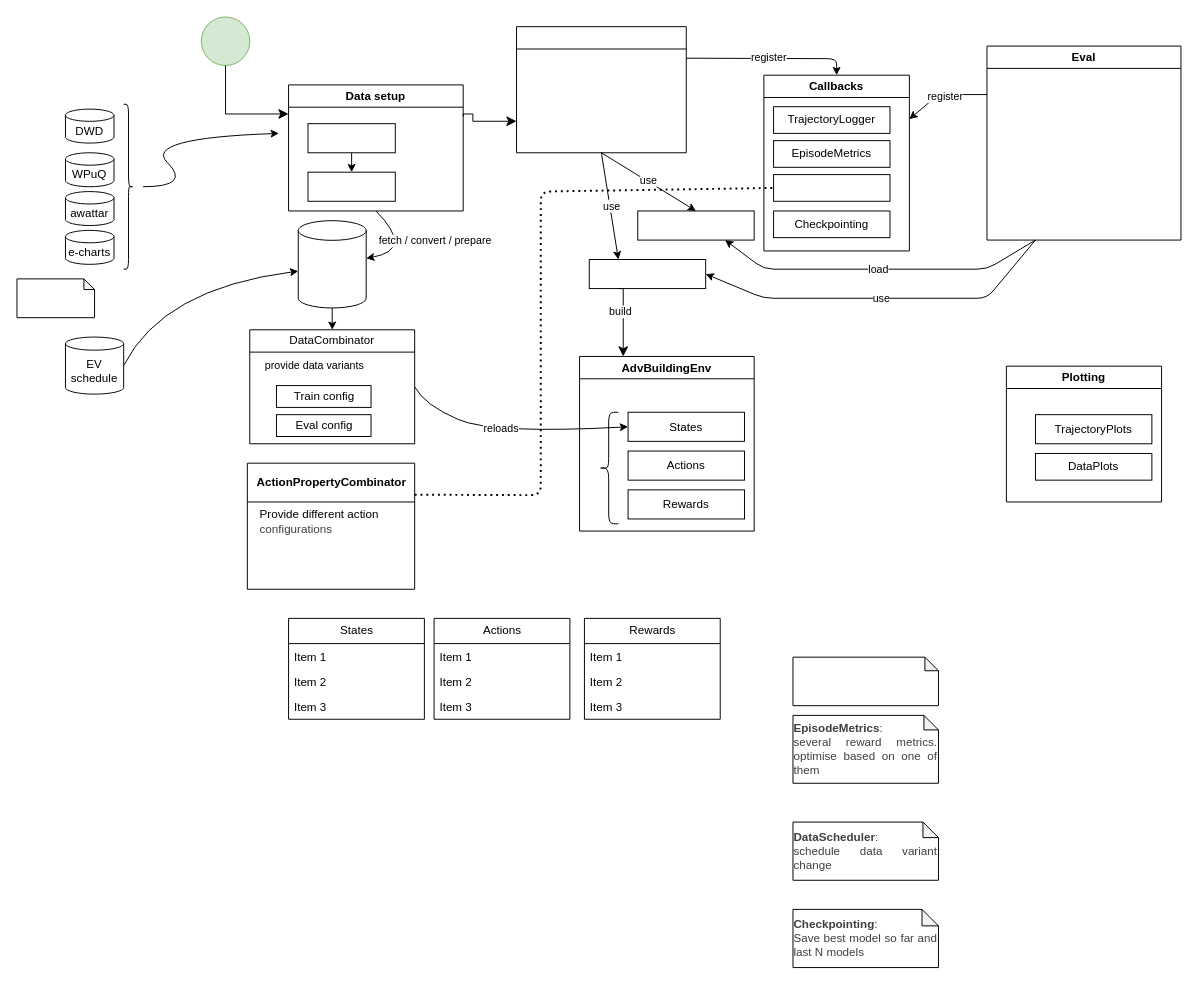
The diagram is 1198 pixels wide and 985 high, and some of its shapes have lost their labels. The centre of each missing label's shape, as x and y in pixels:
"Data sources" belongs at pixel 55 298.
"DataScheduler" belongs at pixel 831 187.
"Download" belongs at pixel 351 138.
"EnvConfig" belongs at pixel 647 274.
"Preprocess" belongs at pixel 351 186.
"Start" belongs at pixel 225 40.
"Time series: .csv, .hdf5" belongs at pixel 331 264.
"Training" belongs at pixel 601 89.
"training param config" belongs at pixel 695 225.
"TrajectoryLogger : log (s, a, r)" belongs at pixel 865 681.
